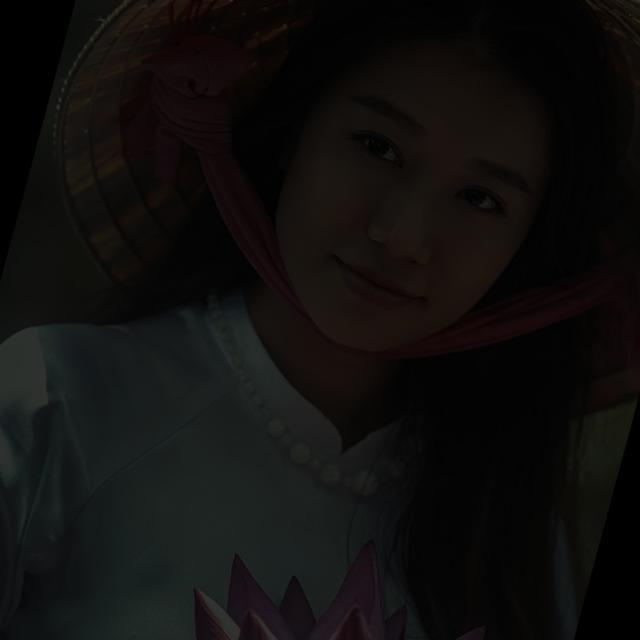Natural: (203, 70, 578, 368)
